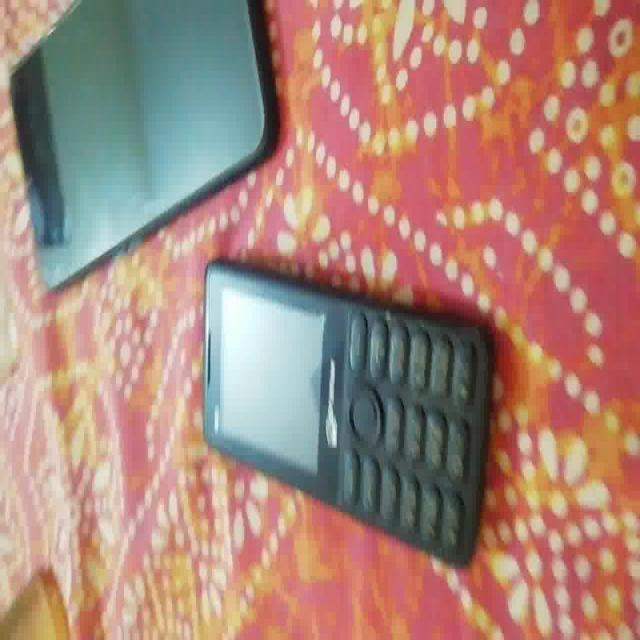phone: (201, 255, 493, 573), (7, 1, 279, 243)
